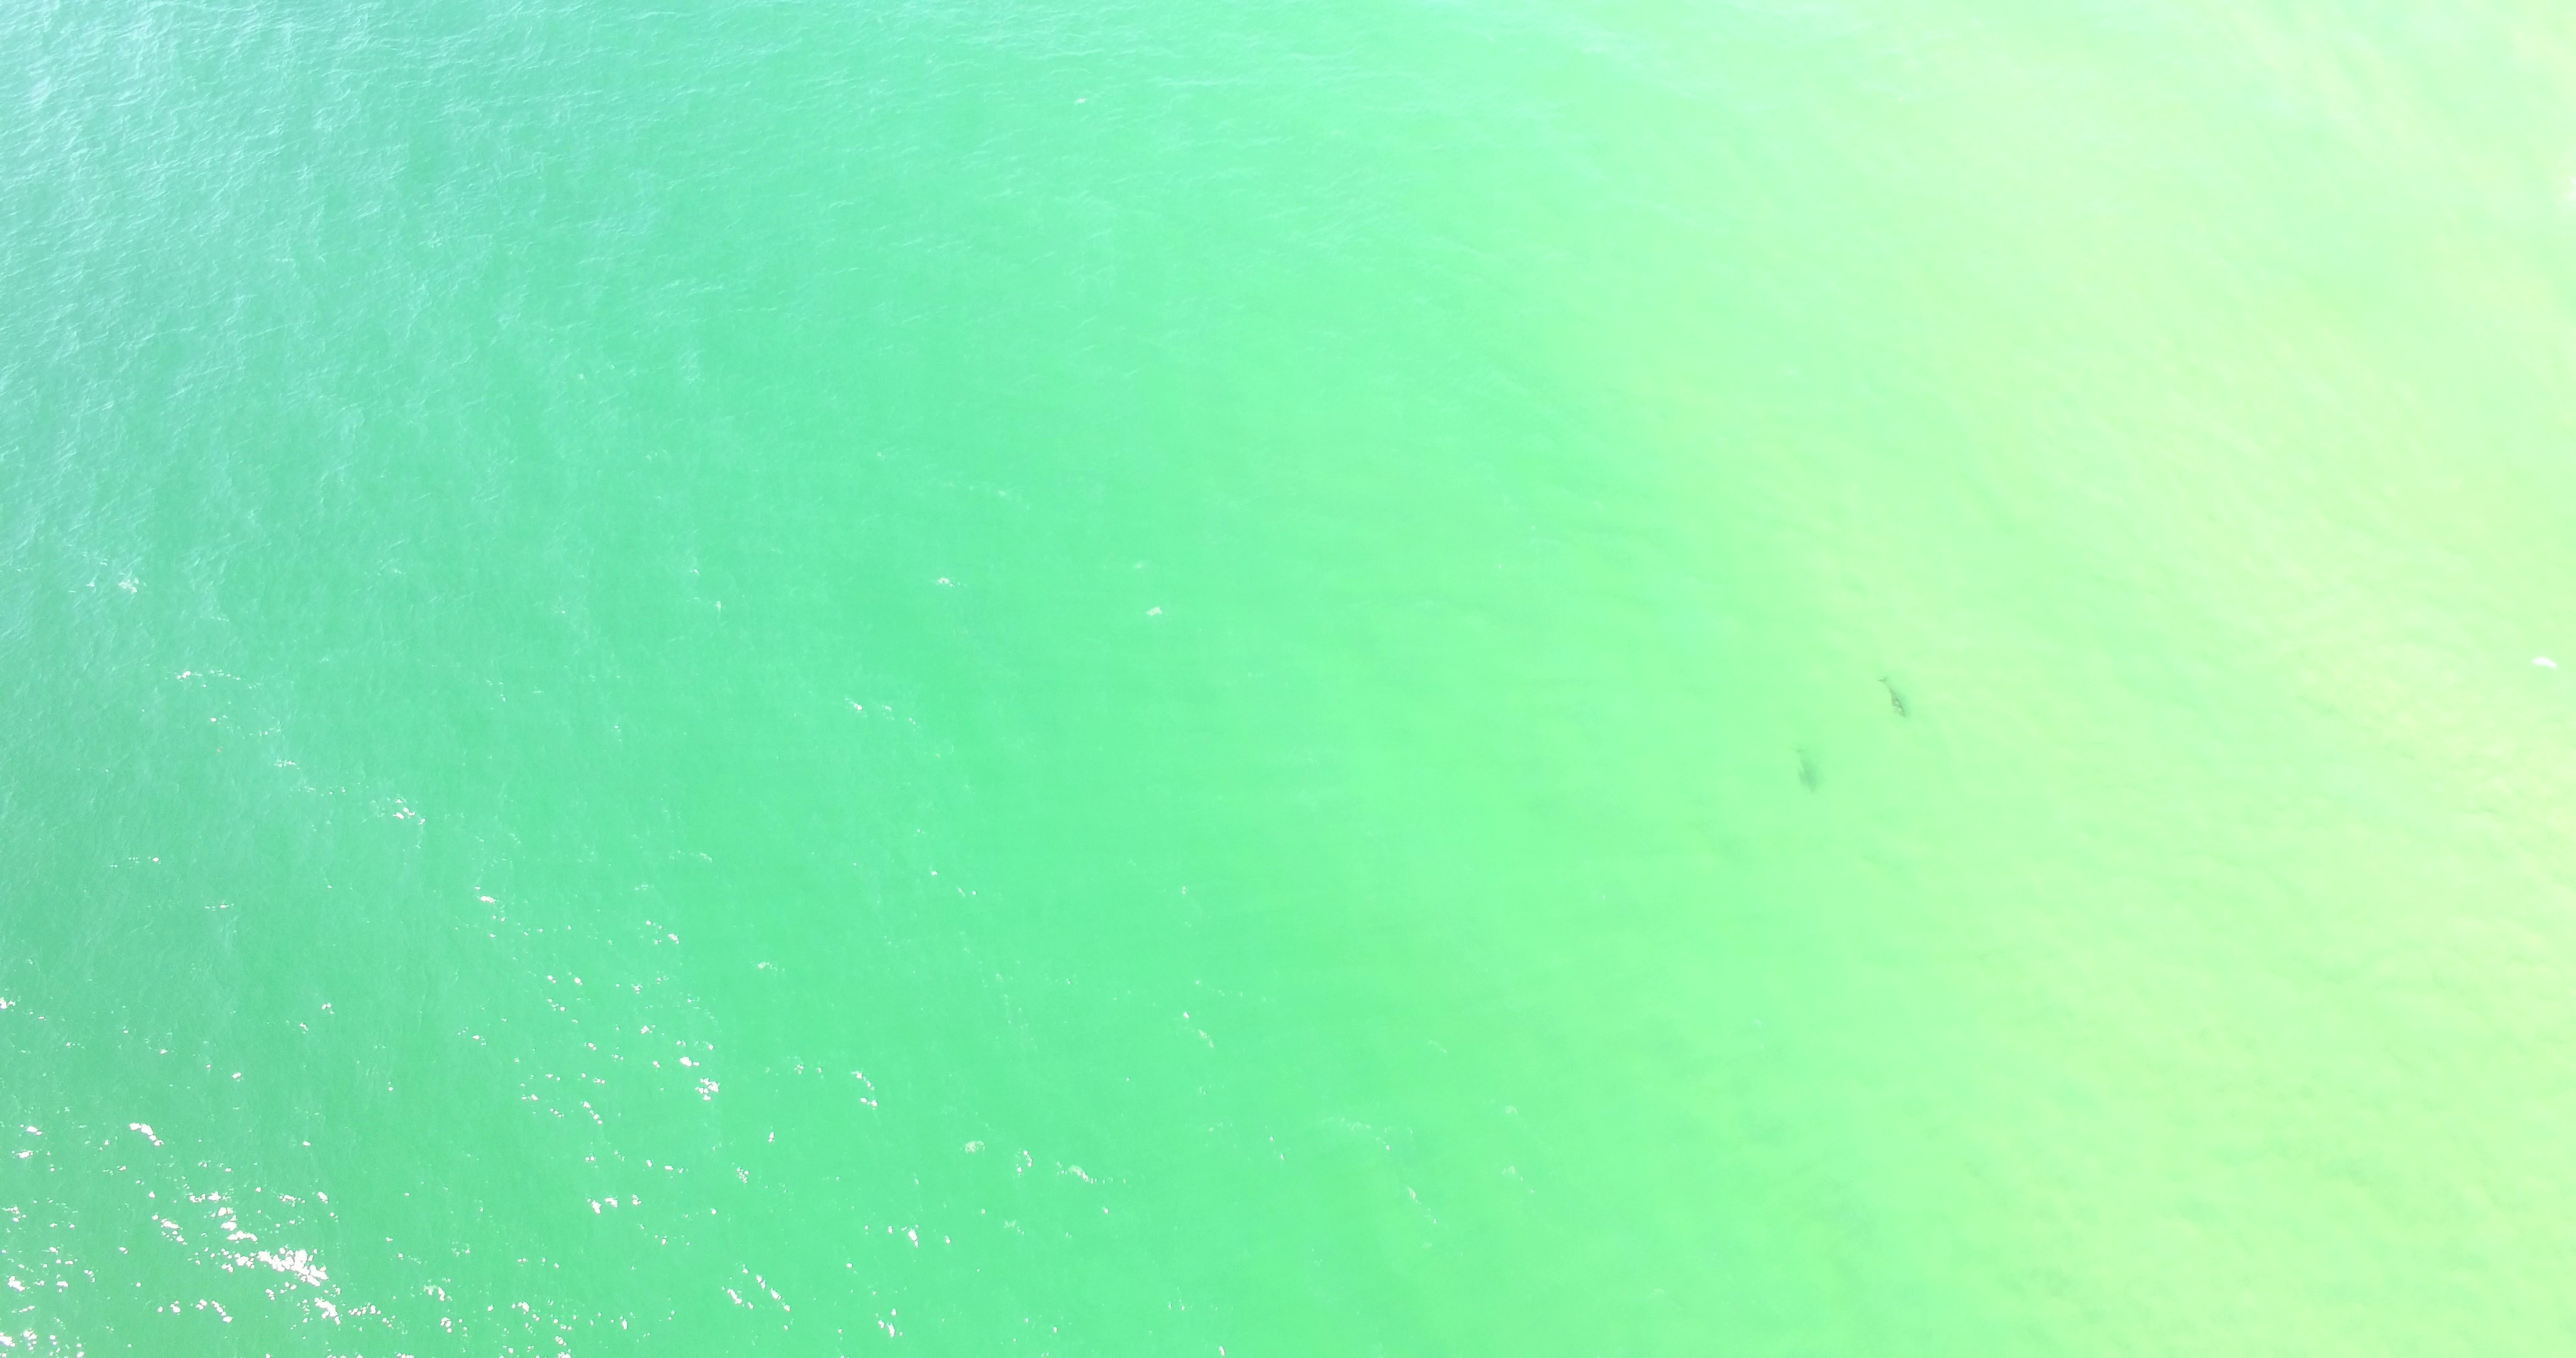dolphin: (1874, 676, 1910, 719), (1791, 745, 1820, 794)
